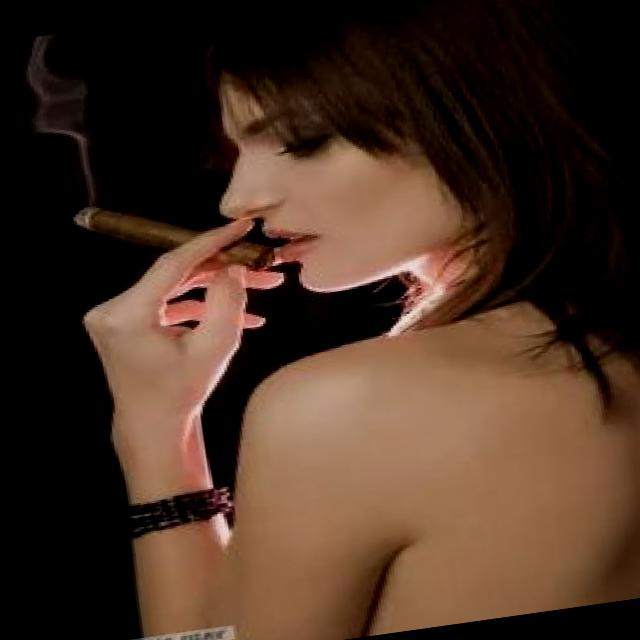cigarette: (65, 177, 278, 306)
